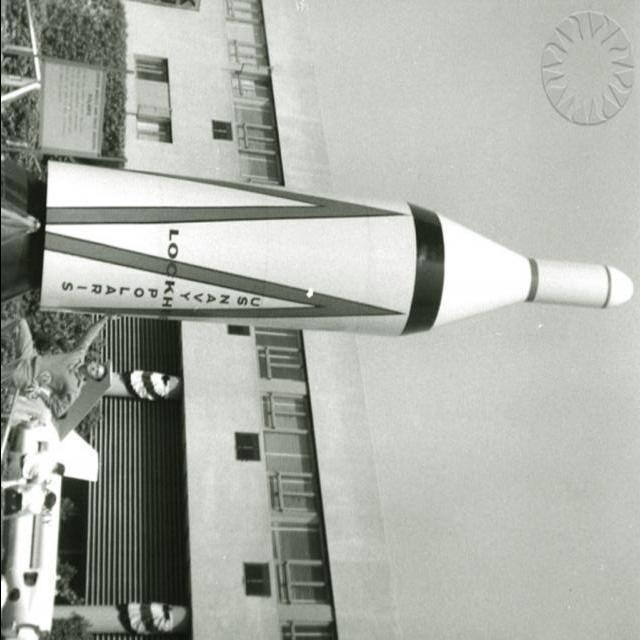Missile: (1, 153, 632, 362)
